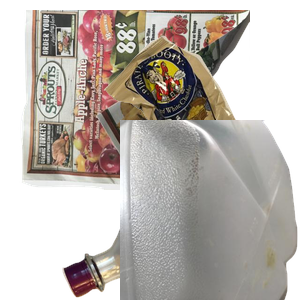glass: (60, 180, 300, 300)
paper: (18, 10, 258, 190)
plastic: (120, 120, 300, 300)
trash: (101, 33, 300, 206)
